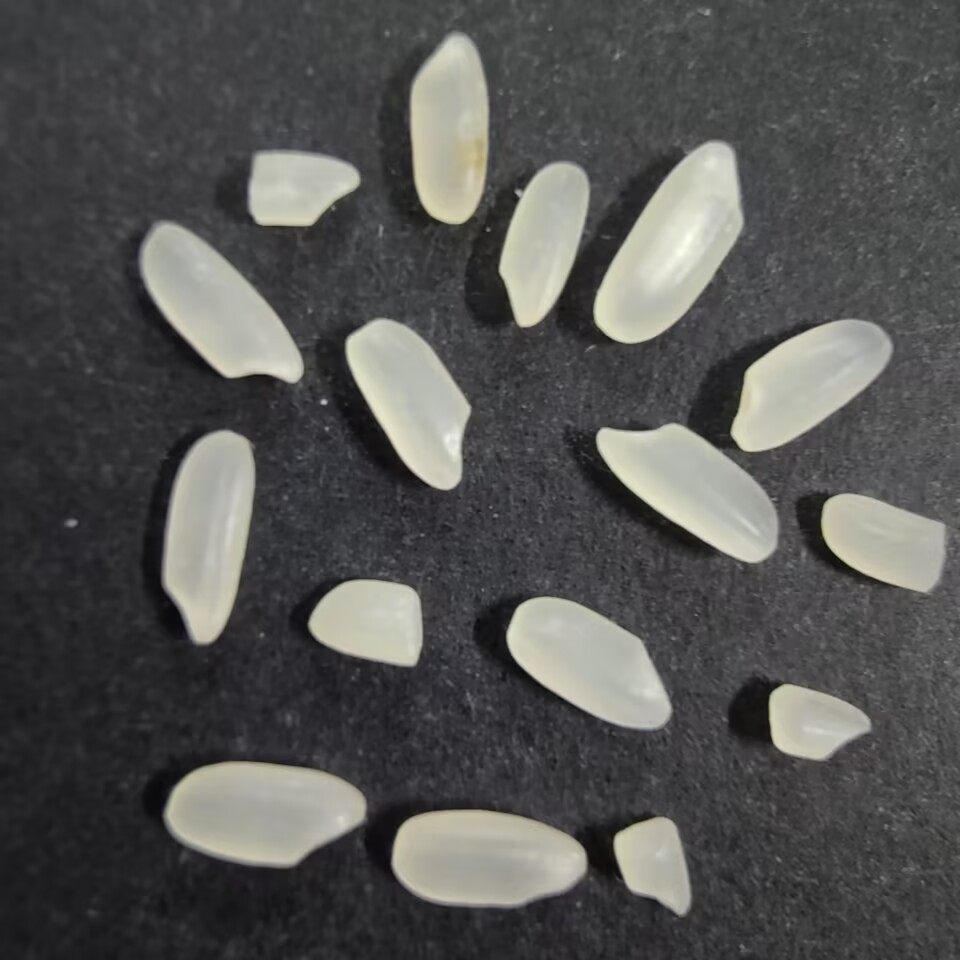broken: (819, 491, 952, 599), (306, 576, 426, 670), (239, 146, 364, 228), (766, 679, 881, 762), (609, 814, 697, 917)
rice: (592, 136, 749, 350), (134, 217, 306, 387), (594, 420, 783, 565), (160, 756, 370, 869), (344, 313, 475, 493), (503, 595, 675, 732), (730, 315, 898, 454), (160, 425, 257, 647), (391, 807, 593, 910), (404, 27, 494, 230), (496, 157, 589, 331)
